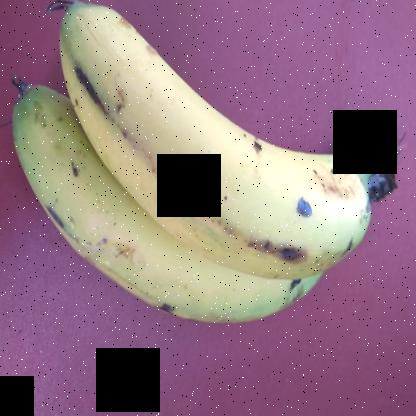ripe: (33, 1, 373, 262), (8, 116, 345, 358)
